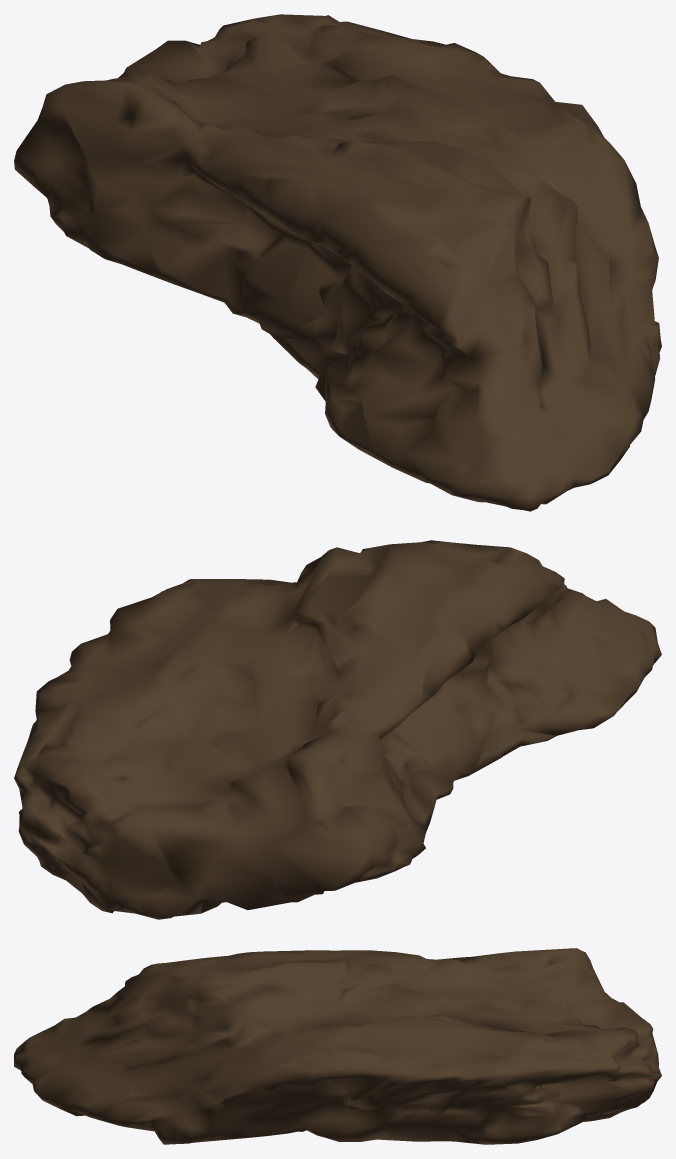
File: rock_09-lod1.glb
3 renders of one model, top to bottom at view 1: azimuth 30°, elevation 25°; view 2: azimuth 150°, elevation 25°; view 3: azimuth 270°, elevation 25°, orthographic. The views are drawn at different scales.
Parts seen in each view (by area): view 1: rock_09_LOD0; view 2: rock_09_LOD0; view 3: rock_09_LOD0.
Boxes of the visible parts, x1,y1,x2,y2 form: rock_09_LOD0: [14, 14, 661, 511]; rock_09_LOD0: [14, 540, 661, 919]; rock_09_LOD0: [14, 948, 661, 1144].
Size of the model in its own units: 0.0739 by 0.0328 by 0.1446.
